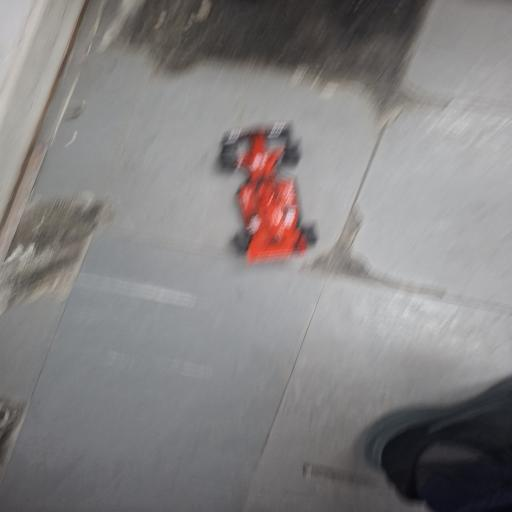carro: (220, 123, 317, 263)
